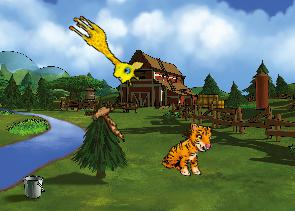eagle: (79, 94, 134, 142)
giraffe: (59, 11, 149, 90)
tiger: (160, 118, 215, 180)
